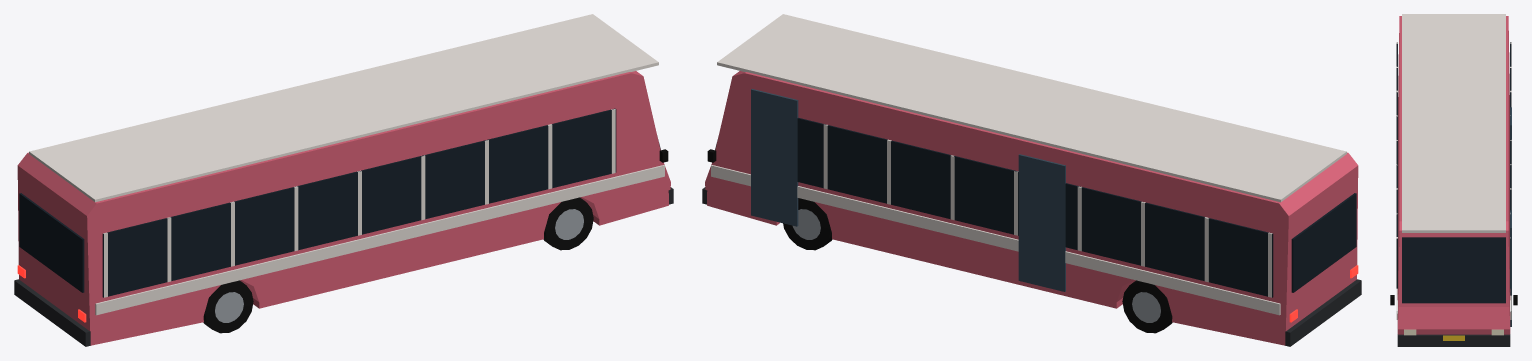
Rendered from city_bus.glb.
The picture shows the model from 3 angles, left to right: view 1: azimuth 30°, elevation 25°; view 2: azimuth 150°, elevation 25°; view 3: azimuth 270°, elevation 25°; orthographic projection. The views are drawn at different scales.
Visible parts, largest first — view 1: city_bus_body, wheel_1r, wheel_0r; view 2: city_bus_body, wheel_1l, wheel_0l; view 3: city_bus_body.
Boxes of the visible parts, box(x1,y1,x2,y2) form: city_bus_body: box(14, 14, 673, 346); wheel_1r: box(203, 280, 253, 333); wheel_0r: box(543, 197, 593, 250); city_bus_body: box(702, 14, 1361, 346); wheel_1l: box(1122, 280, 1172, 333); wheel_0l: box(783, 198, 832, 250); city_bus_body: box(1390, 14, 1517, 346).
Size of the model in its own units: 12.12 by 3.25 by 2.89.
Materials: 2 (1 with a texture image).
